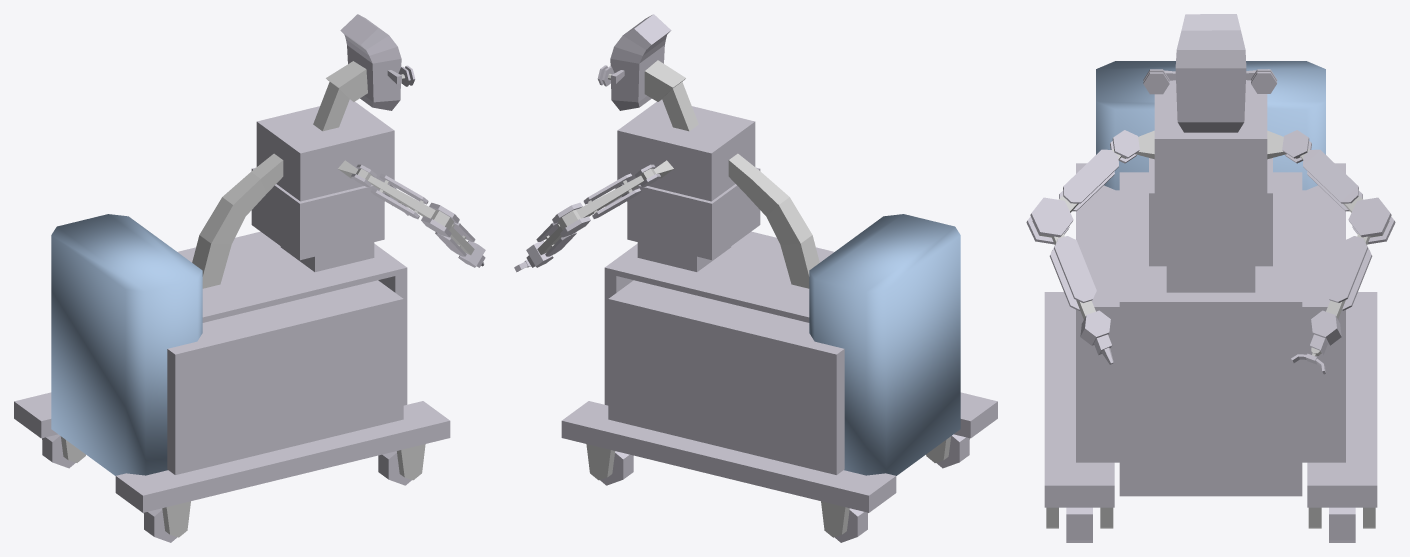
The model's file is Rob+¦ Oper+írio.fbx.
3 views of the same model, side by side, from view 1: azimuth 30°, elevation 25°; view 2: azimuth 150°, elevation 25°; view 3: azimuth 270°, elevation 25° (orthographic). The views are drawn at different scales.
Visible parts, largest first — view 1: Cube.001; view 2: Cube.001; view 3: Cube.001.
Part boxes in pixels (x1,y1,x2,y2): Cube.001: (14, 14, 485, 542); Cube.001: (514, 14, 997, 542); Cube.001: (1026, 14, 1395, 542).
Bounding box in the file's own units: 388 × 413 × 256.
